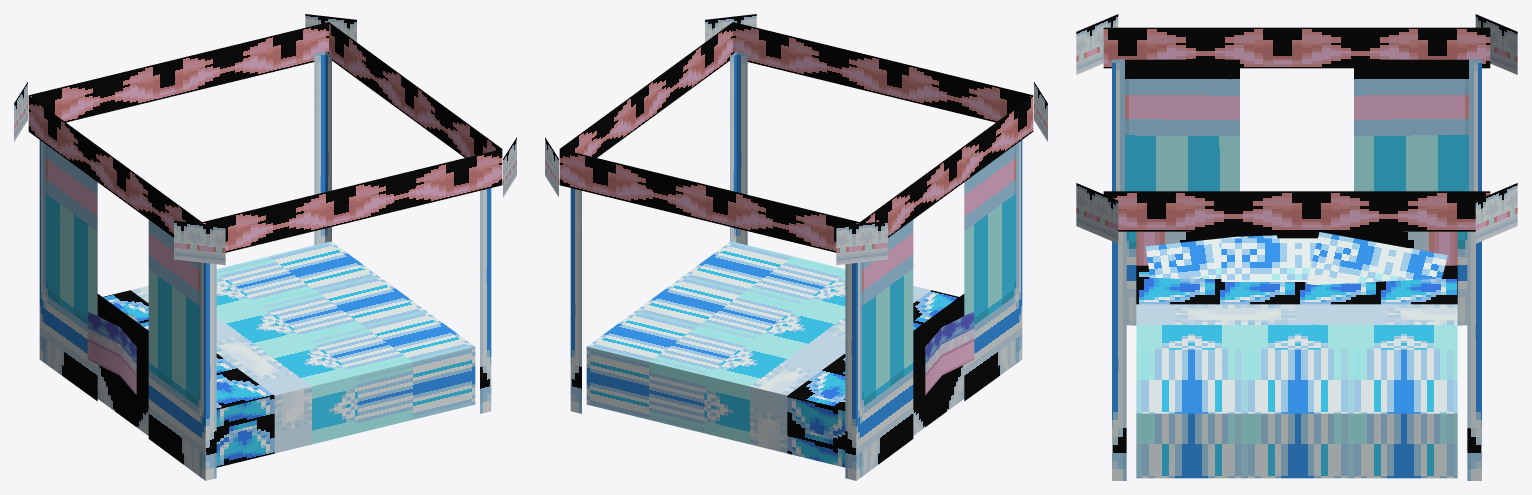
3 views of the same model, side by side, from view 1: azimuth 30°, elevation 25°; view 2: azimuth 150°, elevation 25°; view 3: azimuth 270°, elevation 25° (orthographic). The views are drawn at different scales.
Parts seen in each view (by area): view 1: 3865kg3_ser46; view 2: 3865kg3_ser46; view 3: 3865kg3_ser46.
Part boxes in pixels (<box>): 3865kg3_ser46: <box>14,14,516,480</box>; 3865kg3_ser46: <box>545,14,1047,480</box>; 3865kg3_ser46: <box>1076,14,1517,480</box>.
Bounding box in the file's own units: 2.28 × 1.69 × 2.28.
Materials: 4 (4 with a texture image).
